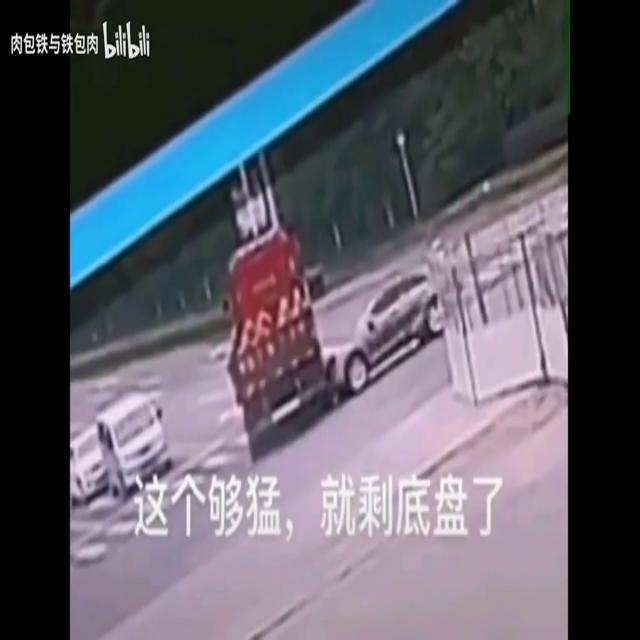accident: (219, 224, 449, 461)
non-accident: (70, 395, 174, 507)
